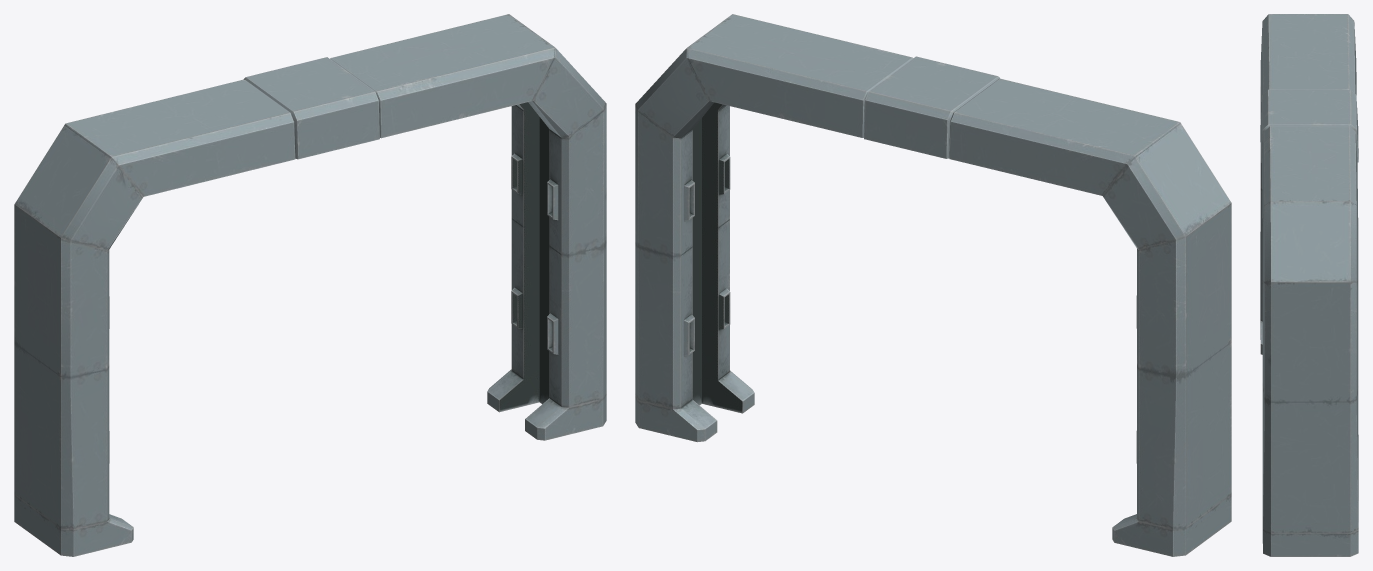
Rendered from Sketchfab_Scene (4).glb.
3 views of the same model, side by side, from view 1: azimuth 30°, elevation 25°; view 2: azimuth 150°, elevation 25°; view 3: azimuth 270°, elevation 25° (orthographic). The views are drawn at different scales.
Visible parts, largest first — view 1: LOW_Frame_Preoritet; view 2: LOW_Frame_Preoritet; view 3: LOW_Frame_Preoritet.
Boxes of the visible parts, x1,y1,x2,y2 form: LOW_Frame_Preoritet: (14, 14, 606, 556); LOW_Frame_Preoritet: (635, 14, 1231, 556); LOW_Frame_Preoritet: (1260, 14, 1358, 556).
Size of the model in its own units: 32.84 by 22.18 by 5.91.
1 material, 1 textured.
